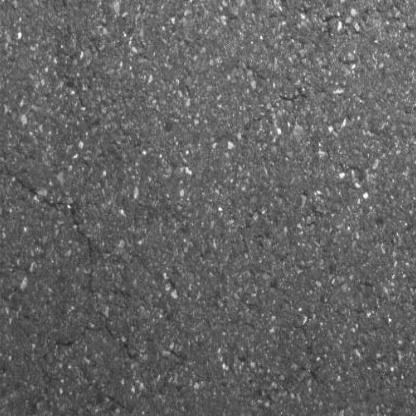Cracks: (0, 114, 119, 416)
